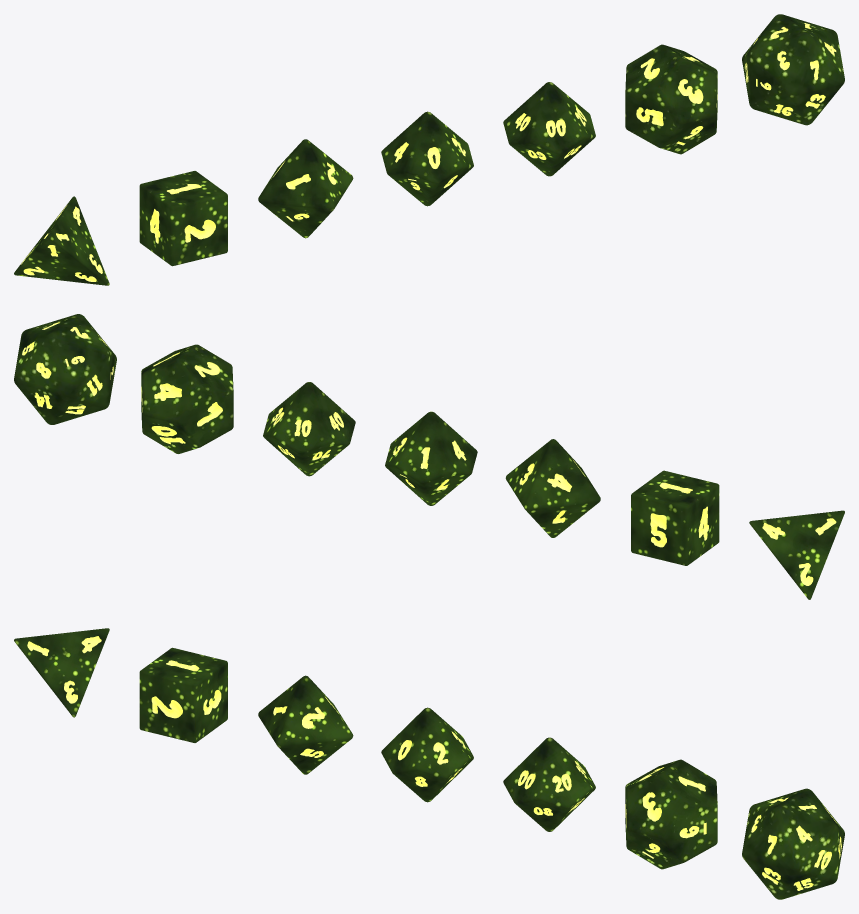
The model's file is toxic-sludge.glb.
The picture shows the model from 3 angles, top to bottom: view 1: azimuth 30°, elevation 25°; view 2: azimuth 150°, elevation 25°; view 3: azimuth 330°, elevation 25°; orthographic projection.
Visible parts, largest first — view 1: d20, d12, d6, d100, d10, d8, d4; view 2: d20, d12, d6, d100, d10, d8, d4; view 3: d20, d12, d6, d8, d10, d100, d4.
Boxes of the visible parts, x1=… form: d20: x1=742, y1=14, x2=844, y2=125; d12: x1=625, y1=44, x2=717, y2=154; d6: x1=139, y1=171, x2=227, y2=266; d100: x1=503, y1=82, x2=595, y2=176; d10: x1=381, y1=111, x2=473, y2=206; d8: x1=258, y1=139, x2=353, y2=238; d4: x1=14, y1=196, x2=109, y2=285; d20: x1=14, y1=314, x2=116, y2=424; d12: x1=141, y1=344, x2=233, y2=453; d6: x1=631, y1=470, x2=719, y2=565; d100: x1=263, y1=382, x2=355, y2=476; d10: x1=385, y1=411, x2=477, y2=505; d8: x1=505, y1=439, x2=600, y2=537; d4: x1=749, y1=510, x2=844, y2=599; d20: x1=742, y1=788, x2=844, y2=899; d12: x1=625, y1=759, x2=717, y2=869; d6: x1=139, y1=647, x2=227, y2=742; d8: x1=258, y1=675, x2=353, y2=774; d10: x1=381, y1=707, x2=473, y2=802; d100: x1=503, y1=737, x2=595, y2=831; d4: x1=14, y1=628, x2=109, y2=717.
Size of the model in its own units: 21.14 by 2.47 by 2.47.
Materials: 14 (7 with a texture image).
